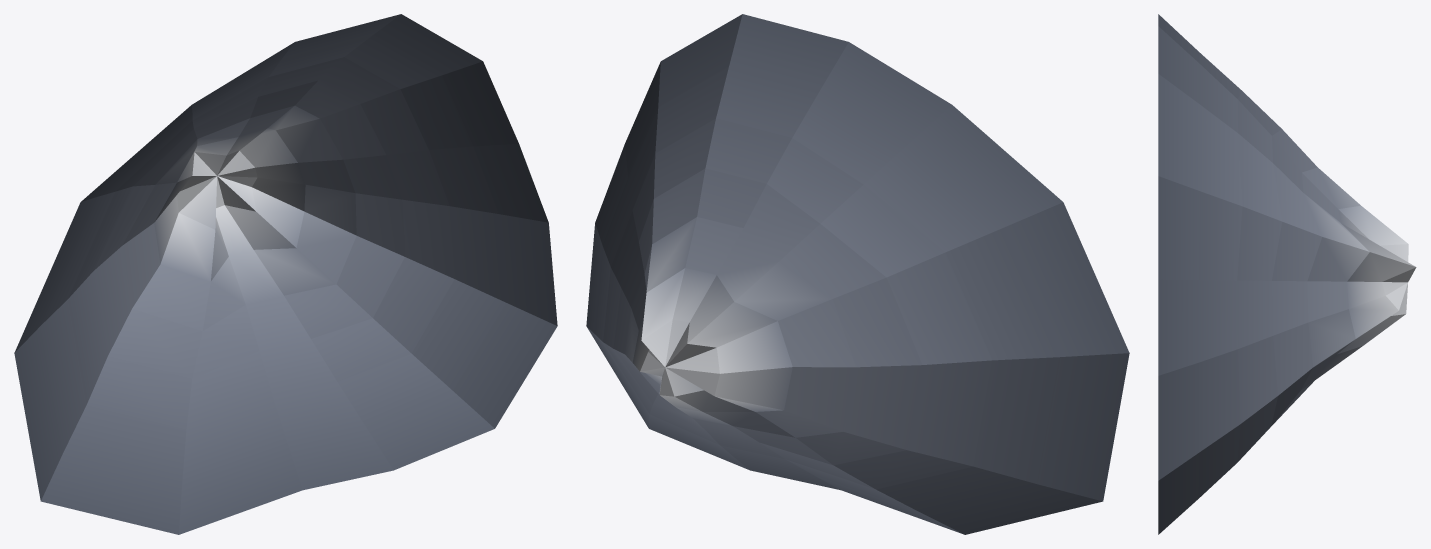
The model's file is mtn_peak_a.glb.
3 views of the same model, side by side, from view 1: azimuth 30°, elevation 25°; view 2: azimuth 150°, elevation 25°; view 3: azimuth 270°, elevation 25° (orthographic). The views are drawn at different scales.
Visible parts, largest first — view 1: mtn_peak_a; view 2: mtn_peak_a; view 3: mtn_peak_a.
Boxes of the visible parts, x1,y1,x2,y2 form: mtn_peak_a: (14,14,557,534); mtn_peak_a: (586,14,1129,534); mtn_peak_a: (1158,14,1416,534).
Size of the model in its own units: 2.64 by 2.16 by 1.14.
